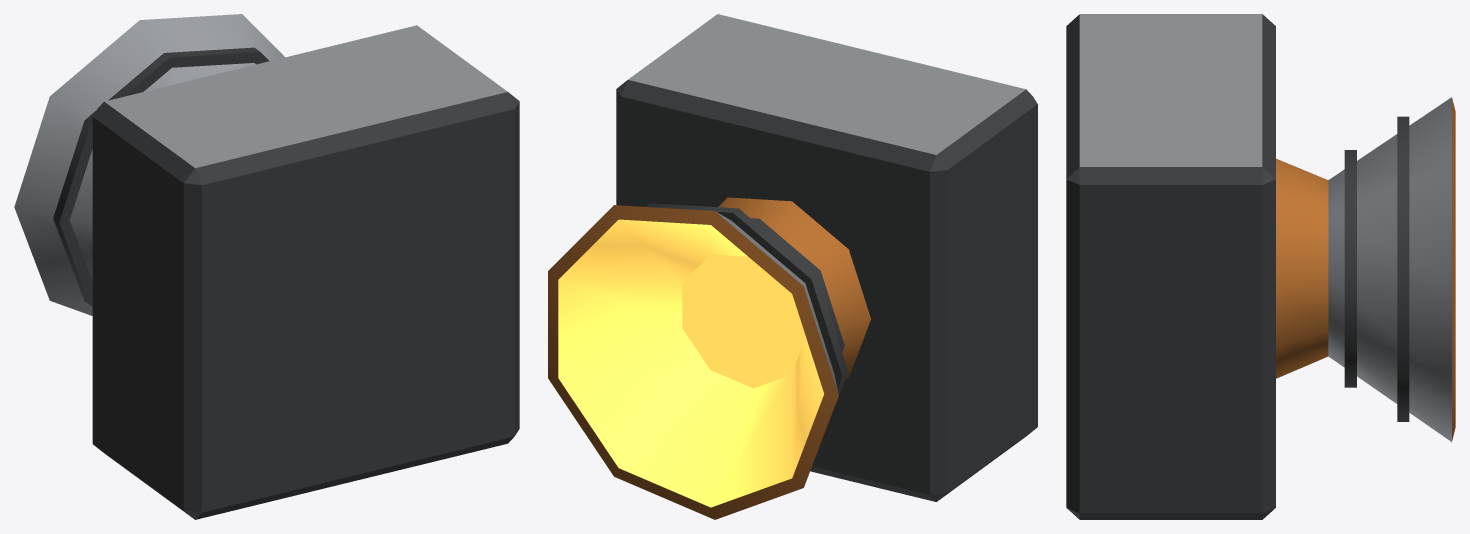
File: R4X_Booster_LOD1.fbx
3 views of the same model, side by side, from view 1: azimuth 30°, elevation 25°; view 2: azimuth 150°, elevation 25°; view 3: azimuth 270°, elevation 25° (orthographic).
Visible parts, largest first — view 1: R4X_Booster_LOD1; view 2: R4X_Booster_LOD1; view 3: R4X_Booster_LOD1.
Boxes of the visible parts, box(x1,y1,x2,y2) form: R4X_Booster_LOD1: box(14, 14, 519, 519); R4X_Booster_LOD1: box(548, 14, 1037, 519); R4X_Booster_LOD1: box(1066, 14, 1455, 519).
Bounding box in the file's own units: 0.52 × 0.52 × 0.52.
